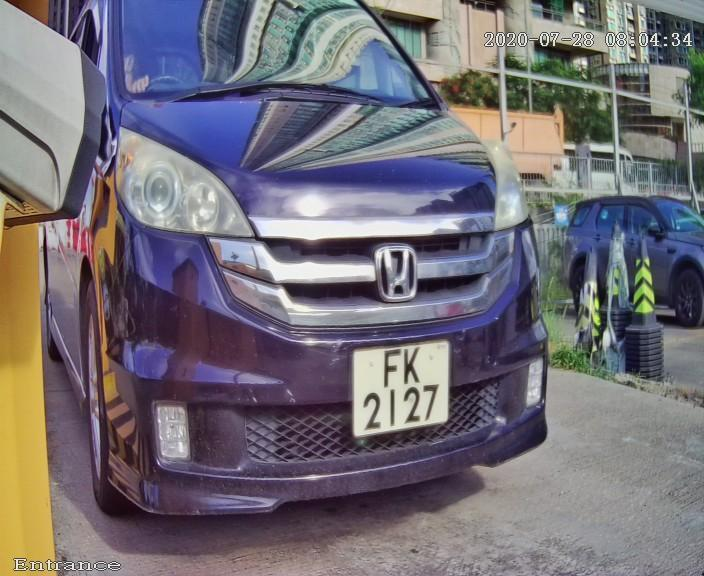privatecar: (13, 16, 632, 564)
